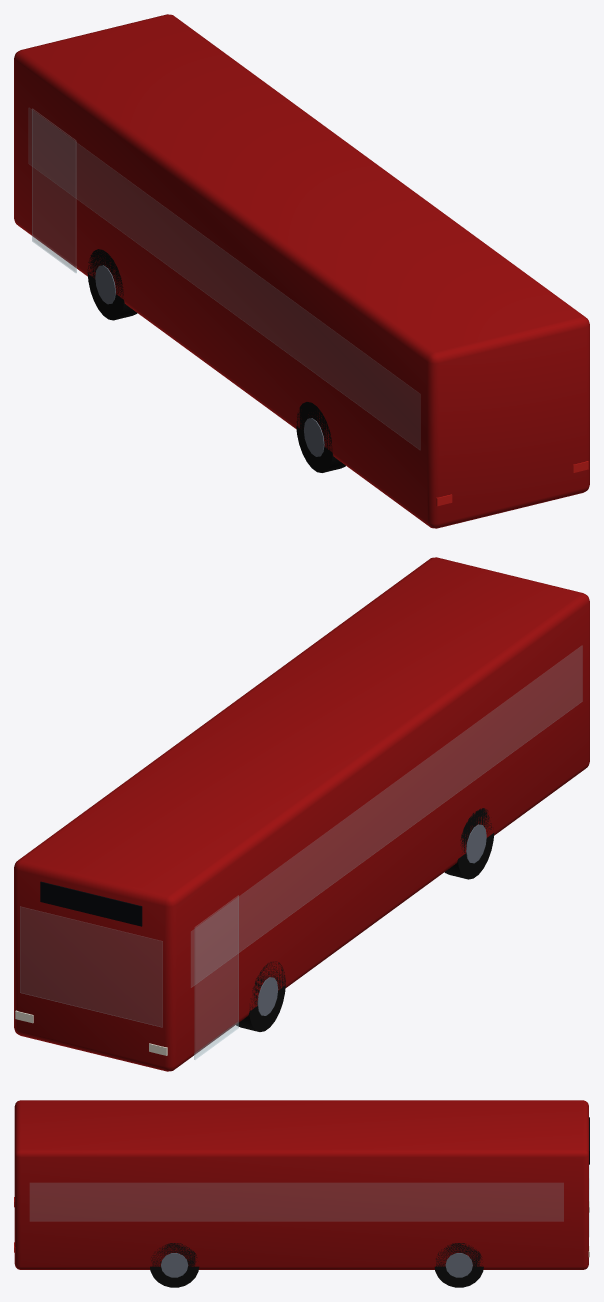
The model's file is vehicle.bus.single.glb.
The picture shows the model from 3 angles, top to bottom: view 1: azimuth 30°, elevation 25°; view 2: azimuth 150°, elevation 25°; view 3: azimuth 270°, elevation 25°; orthographic projection. The views are drawn at different scales.
Visible parts, largest first — view 1: main__car_red, main__glass, main__rubber, main__steel_painted; view 2: main__car_red, main__glass, main__rubber, main__screen, main__steel_painted; view 3: main__car_red, main__glass, main__rubber, main__steel_painted.
Boxes of the visible parts, bbox=[...] form: main__car_red: bbox=[14, 14, 589, 528]; main__glass: bbox=[29, 108, 420, 449]; main__rubber: bbox=[87, 249, 345, 472]; main__steel_painted: bbox=[95, 265, 324, 456]; main__car_red: bbox=[14, 557, 589, 1071]; main__glass: bbox=[20, 645, 582, 1059]; main__rubber: bbox=[236, 808, 494, 1031]; main__screen: bbox=[40, 881, 142, 926]; main__steel_painted: bbox=[257, 824, 486, 1015]; main__car_red: bbox=[14, 1100, 588, 1269]; main__glass: bbox=[30, 1165, 589, 1236]; main__rubber: bbox=[150, 1243, 483, 1287]; main__steel_painted: bbox=[161, 1253, 472, 1277].
Size of the model in its own units: 2.57 by 2.99 by 11.53.
